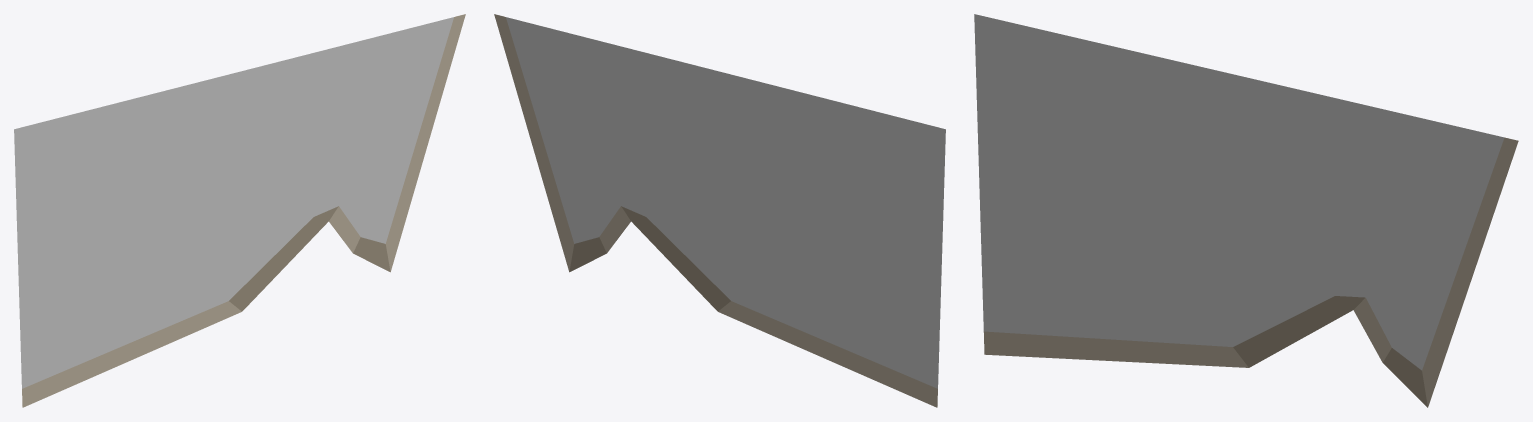
File: ShellRiddlesPuzzlePieceA.glb
The picture shows the model from 3 angles, left to right: view 1: azimuth 30°, elevation 25°; view 2: azimuth 150°, elevation 25°; view 3: azimuth 330°, elevation 25°; orthographic projection. The views are drawn at different scales.
Visible parts, largest first — view 1: ShellRiddlesPuzzlePieceA; view 2: ShellRiddlesPuzzlePieceA; view 3: ShellRiddlesPuzzlePieceA.
Boxes of the visible parts, left/top/right/bottom form: ShellRiddlesPuzzlePieceA: left=14, top=14, right=465, bottom=407; ShellRiddlesPuzzlePieceA: left=494, top=14, right=945, bottom=407; ShellRiddlesPuzzlePieceA: left=974, top=14, right=1518, bottom=407.
Bounding box in the file's own units: 0.6841 × 0.4134 × 0.
